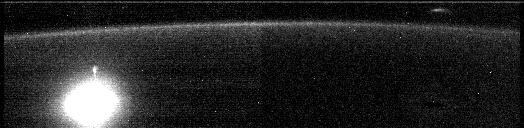positive: (88, 63, 99, 78)
